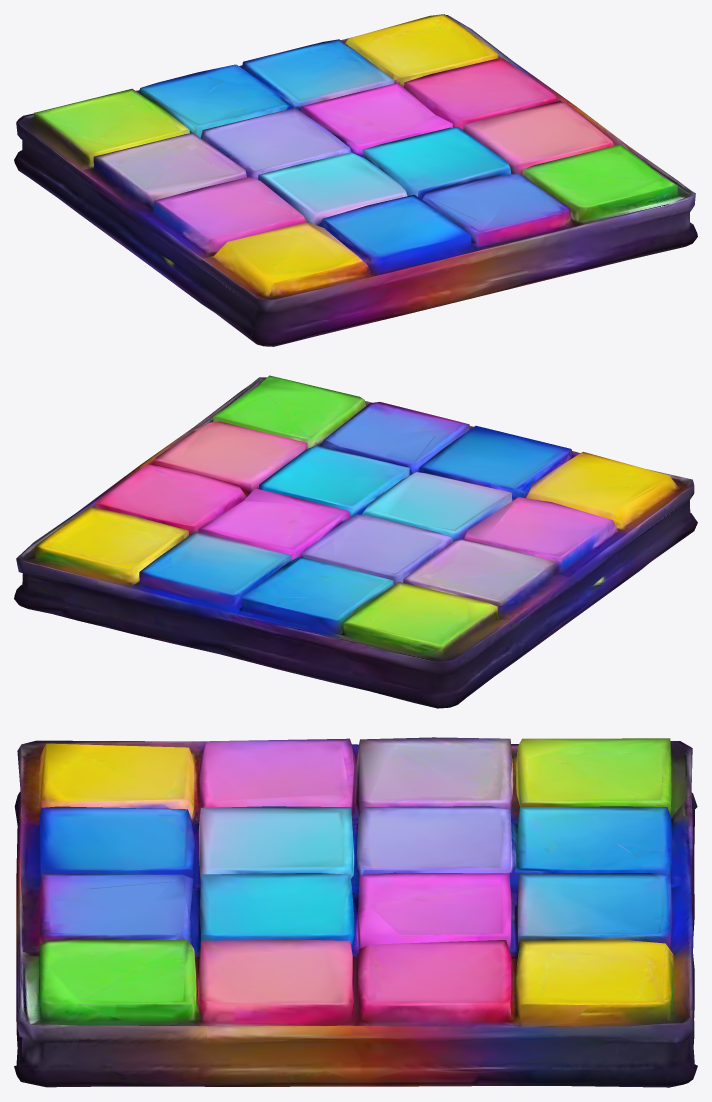
Rendered from disco-floor.glb.
3 views of the same model, one above another, from view 1: azimuth 30°, elevation 25°; view 2: azimuth 150°, elevation 25°; view 3: azimuth 270°, elevation 25° (orthographic). The views are drawn at different scales.
Visible parts, largest first — view 1: tripo_node_38b57740-a17b-4909-9d28-26eef6ca63ac; view 2: tripo_node_38b57740-a17b-4909-9d28-26eef6ca63ac; view 3: tripo_node_38b57740-a17b-4909-9d28-26eef6ca63ac.
Part boxes in pixels (box(x1,y1,x2,y2)): tripo_node_38b57740-a17b-4909-9d28-26eef6ca63ac: box(14, 14, 697, 346); tripo_node_38b57740-a17b-4909-9d28-26eef6ca63ac: box(14, 375, 697, 708); tripo_node_38b57740-a17b-4909-9d28-26eef6ca63ac: box(14, 737, 697, 1087).
Bounding box in the file's own units: 1 × 0.1188 × 0.9998.
Materials: 1 (1 with a texture image).
